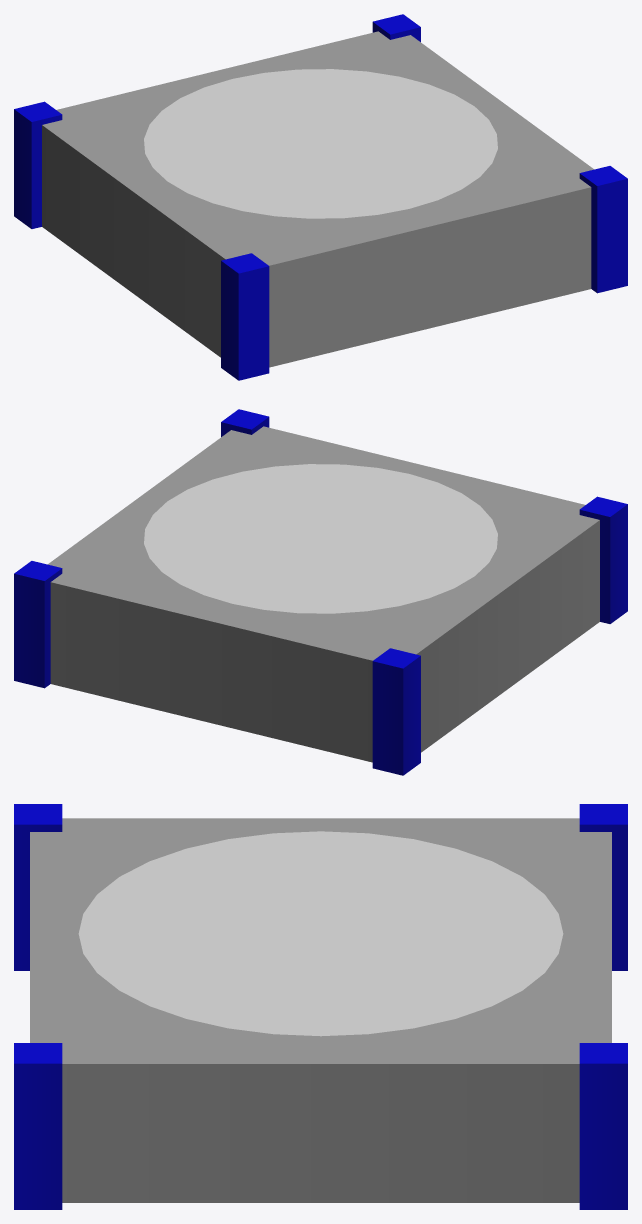
Rendered from building-31.glb.
The picture shows the model from 3 angles, top to bottom: view 1: azimuth 30°, elevation 25°; view 2: azimuth 150°, elevation 25°; view 3: azimuth 270°, elevation 25°; orthographic projection. The views are drawn at different scales.
Parts seen in each view (by area): view 1: mesh0; view 2: mesh0; view 3: mesh0.
Boxes of the visible parts, left/top/right/bottom form: mesh0: left=14, top=14, right=627, bottom=380; mesh0: left=14, top=409, right=627, bottom=775; mesh0: left=14, top=804, right=627, bottom=1209.
Size of the model in its own units: 0.76 by 0.2 by 0.76.
